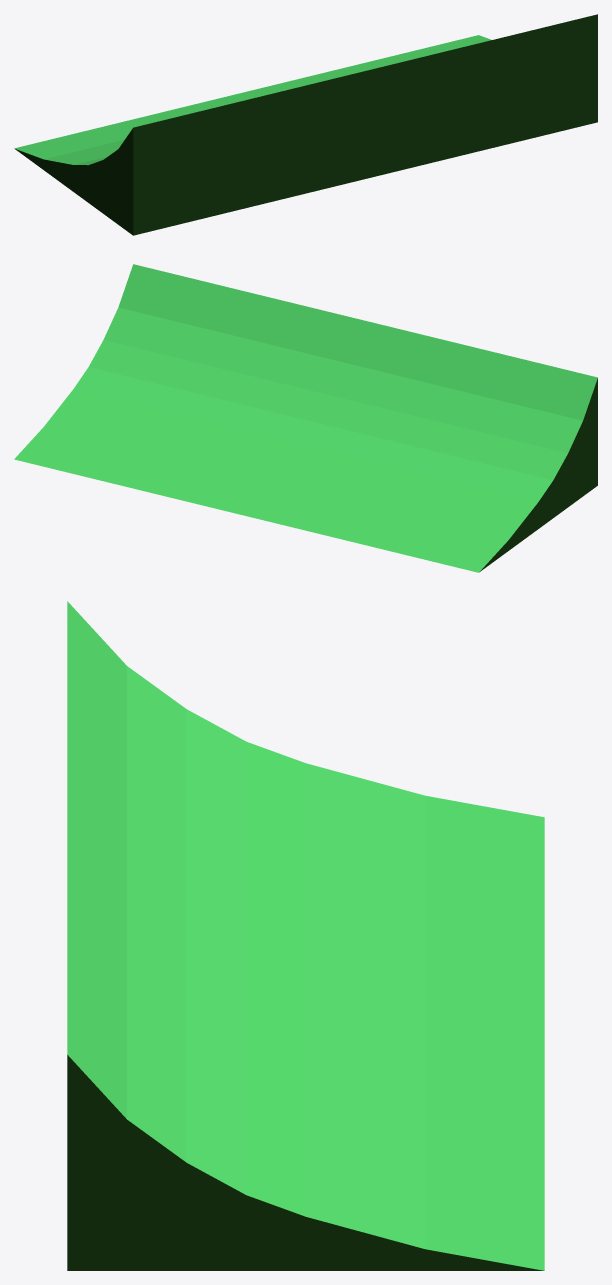
Rendered from Curved Ramp.fbx.
3 renders of one model, top to bottom at view 1: azimuth 30°, elevation 25°; view 2: azimuth 150°, elevation 25°; view 3: azimuth 270°, elevation 25°, orthographic. The views are drawn at different scales.
Parts seen in each view (by area): view 1: Curved Ramp; view 2: Curved Ramp; view 3: Curved Ramp.
Boxes of the visible parts, box(x1,y1,x2,y2) form: Curved Ramp: box(14, 14, 597, 235); Curved Ramp: box(14, 264, 597, 572); Curved Ramp: box(67, 601, 544, 1270).
Bounding box in the file's own units: 90 × 20 × 40.
